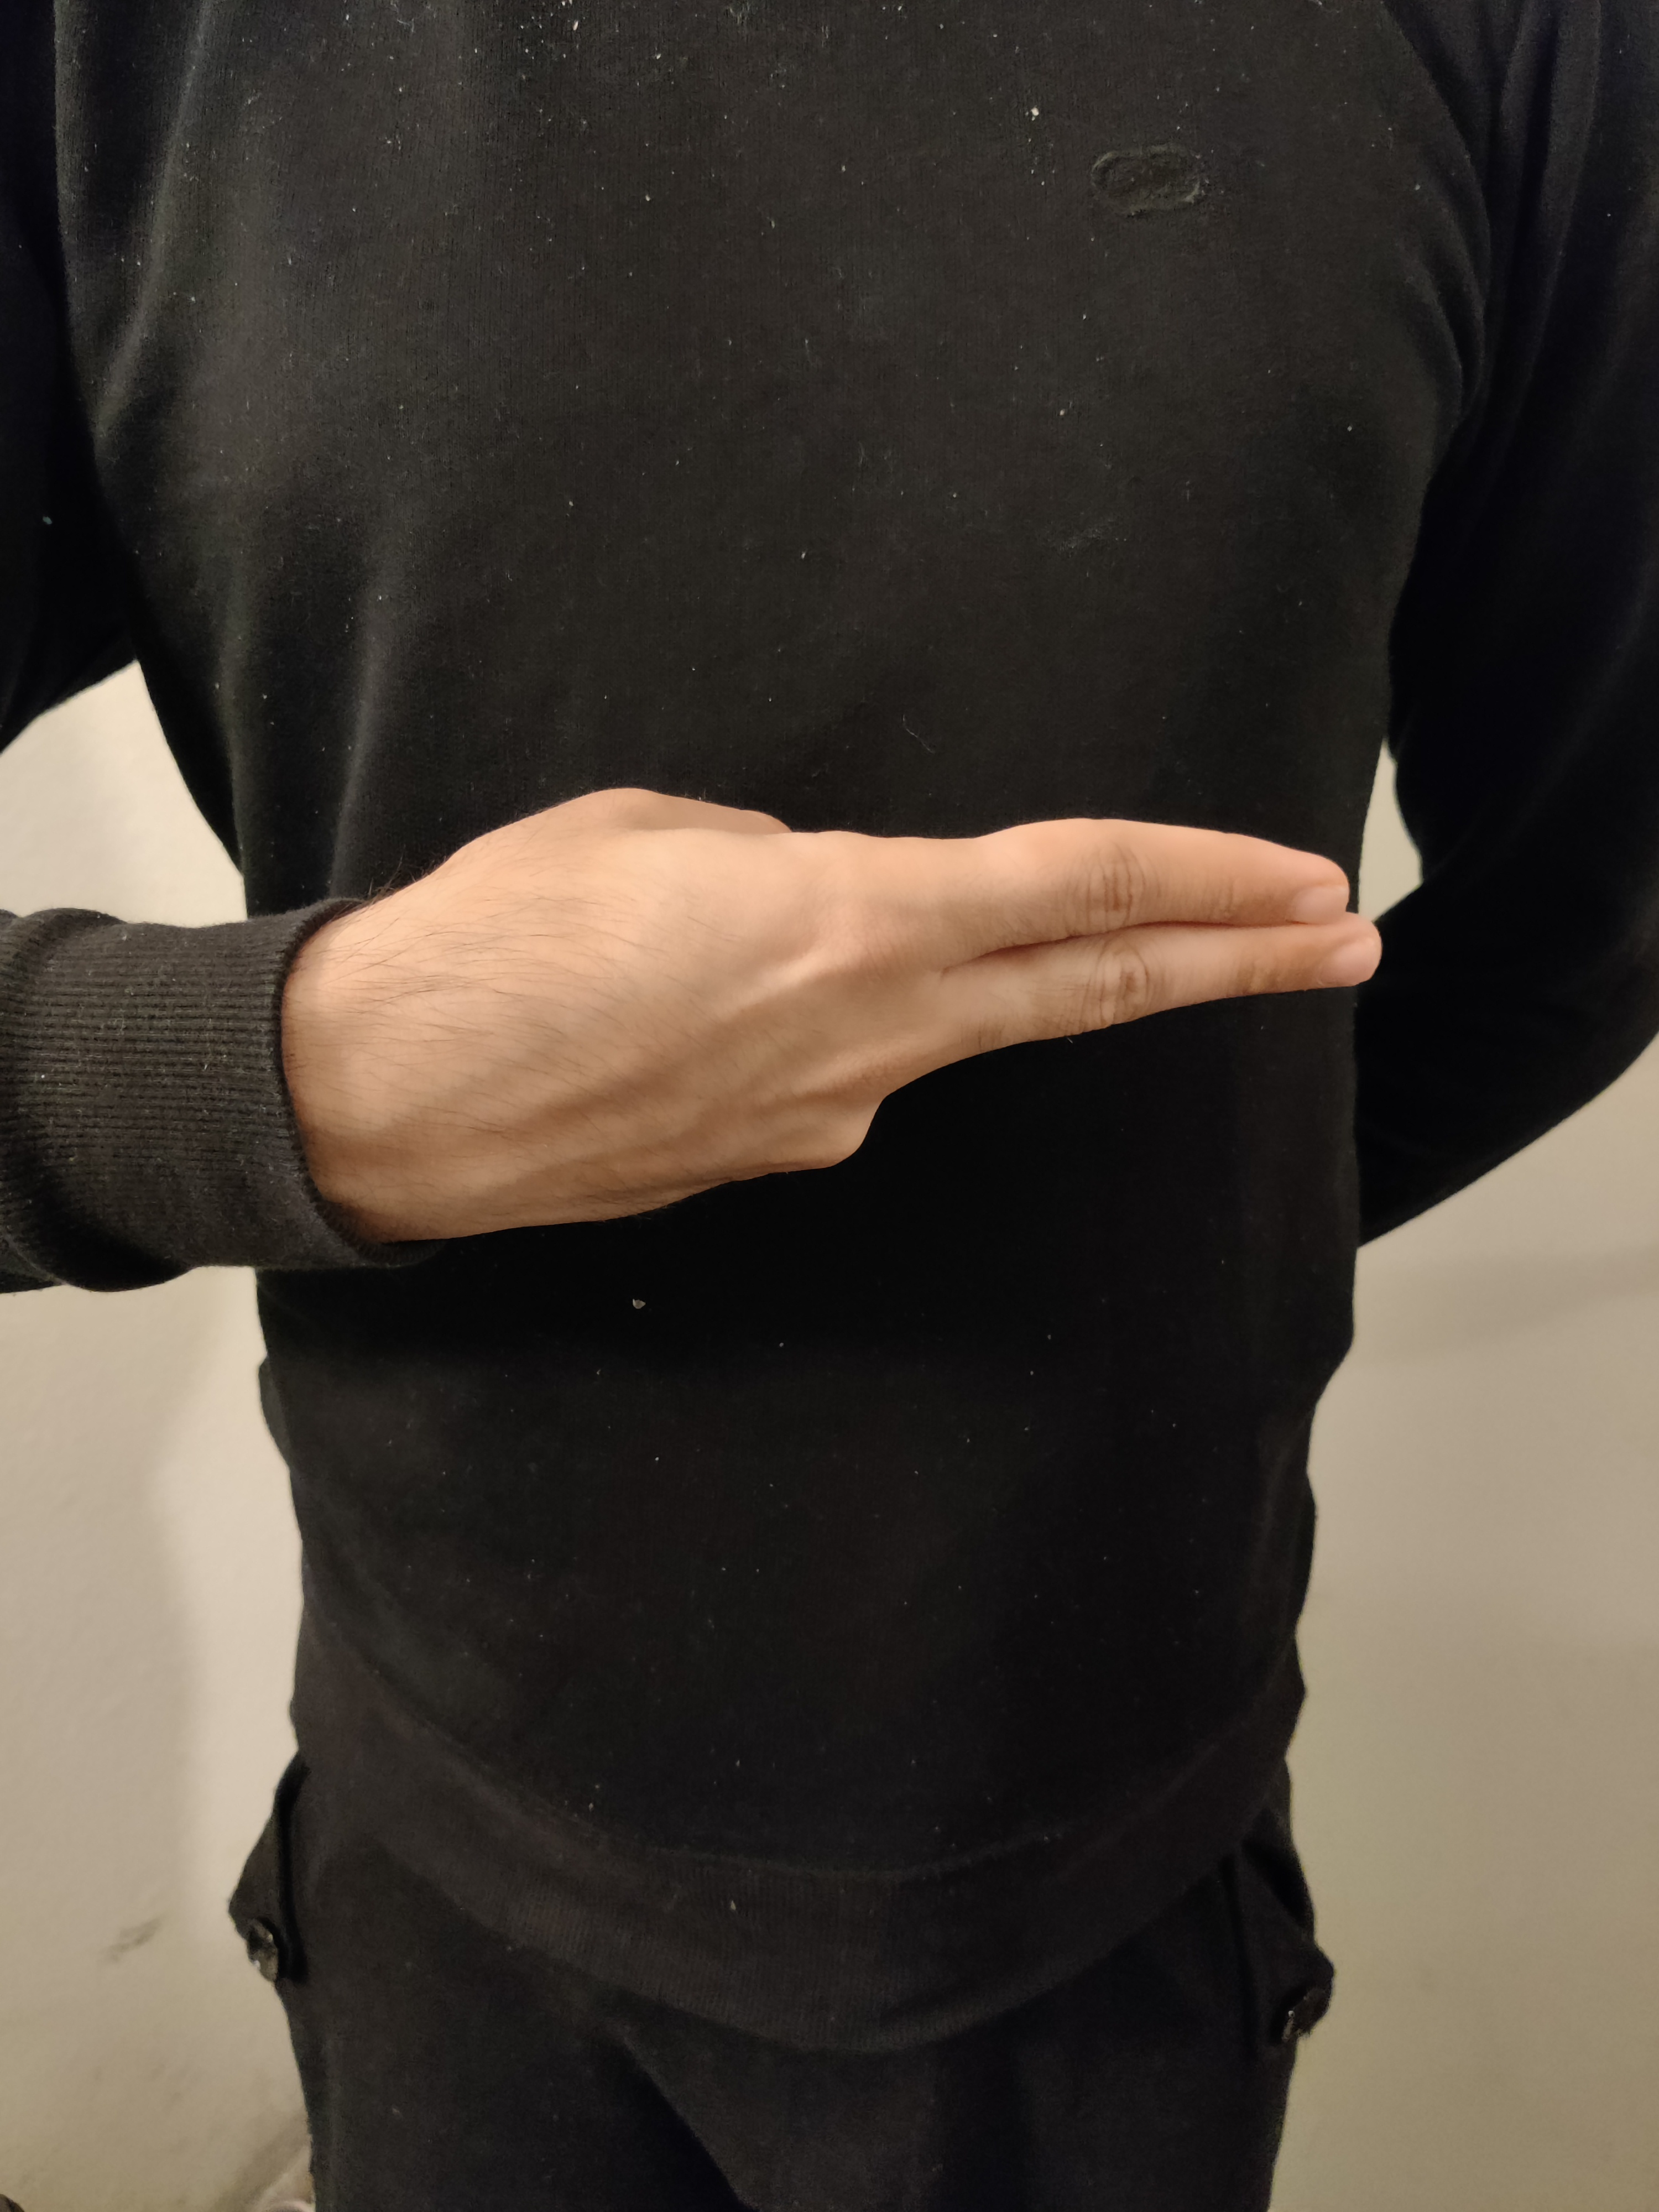left: (63, 587, 1439, 1345)
